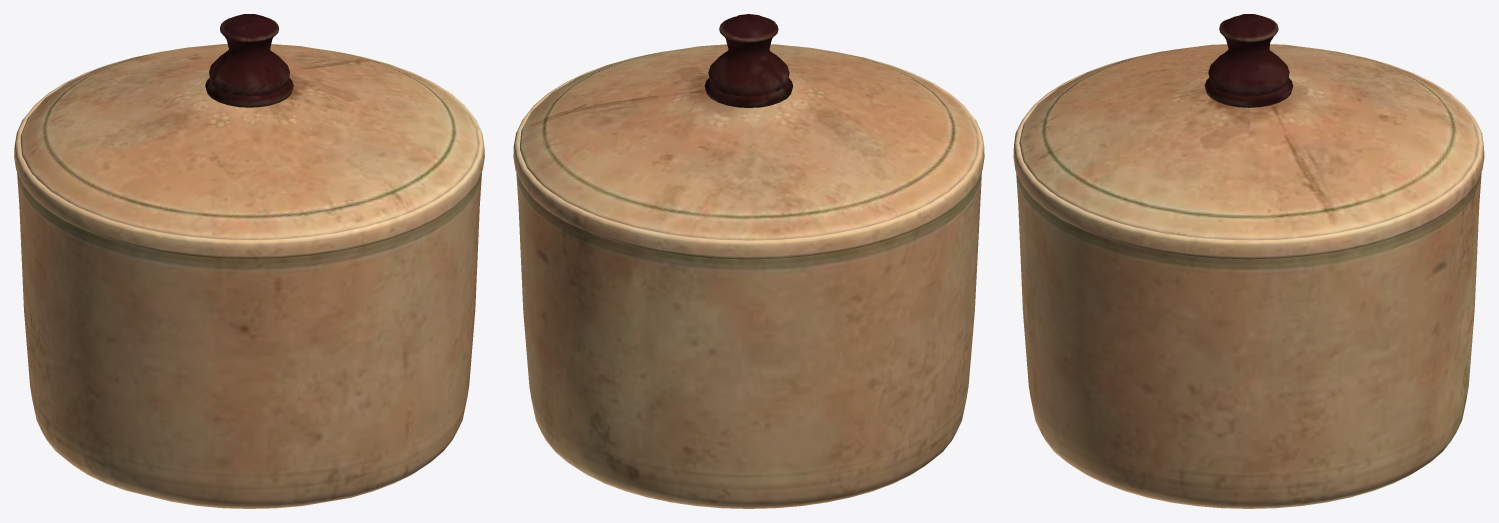
Rendered from brass_pot_01.glb.
3 renders of one model, left to right at view 1: azimuth 30°, elevation 25°; view 2: azimuth 150°, elevation 25°; view 3: azimuth 270°, elevation 25°, orthographic.
Visible parts, largest first — view 1: brass_pot_01; view 2: brass_pot_01; view 3: brass_pot_01.
Part boxes in pixels (x1,y1,x2,y2): brass_pot_01: (14,14,484,508); brass_pot_01: (513,14,984,508); brass_pot_01: (1013,14,1484,508).
Size of the model in its own units: 0.3019 by 0.2909 by 0.3017.
Materials: 1 (1 with a texture image).
